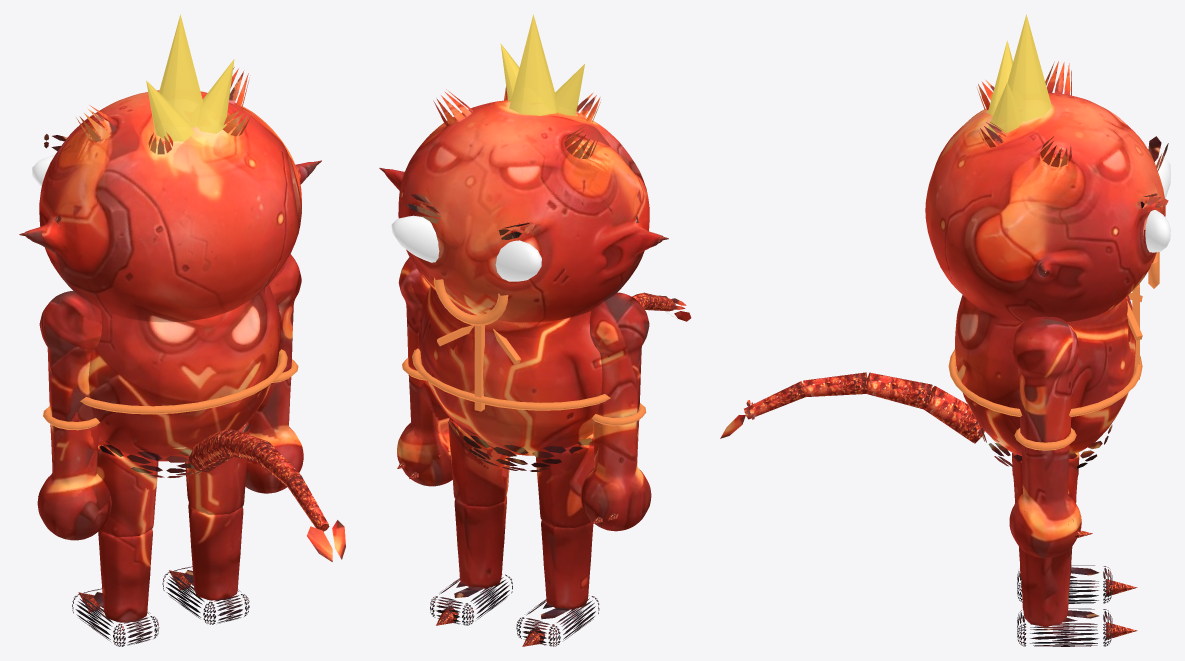
Rendered from firewall_imp.glb.
3 views of the same model, side by side, from view 1: azimuth 30°, elevation 25°; view 2: azimuth 150°, elevation 25°; view 3: azimuth 270°, elevation 25° (orthographic). The views are drawn at different scales.
Visible parts, largest first — view 1: skin, skin.005, skin.003, skin.004, fire, skin.006, skin.008, skin.009, skin.001, skin.007, glow.003, skin.002 (+10 smaller); view 2: skin, skin.005, skin.003, skin.004, skin.001, fire, skin.006, skin.008, skin.009, skin.007, glow.003, eye (+8 smaller); view 3: skin, skin.005, skin.002, skin.001, fire, skin.006, glow.003, dark.001, horn, skin.013, skin.012, skin.011 (+5 smaller).
Boxes of the visible parts, x1=… form: skin: x1=19, y1=90, x2=321, y2=322; skin.005: x1=88, y1=284, x2=280, y2=461; skin.003: x1=37, y1=424, x2=111, y2=540; skin.004: x1=39, y1=291, x2=101, y2=421; fire: x1=146, y1=14, x2=234, y2=141; skin.006: x1=188, y1=503, x2=243, y2=600; skin.008: x1=98, y1=529, x2=152, y2=622; skin.009: x1=97, y1=437, x2=158, y2=536; skin.001: x1=245, y1=377, x2=303, y2=493; skin.007: x1=185, y1=422, x2=249, y2=514; glow.003: x1=80, y1=349, x2=287, y2=414; skin.002: x1=269, y1=254, x2=301, y2=372; skin: x1=379, y1=100, x2=668, y2=322; skin.005: x1=418, y1=286, x2=602, y2=455; skin.003: x1=580, y1=420, x2=651, y2=531; skin.004: x1=589, y1=292, x2=649, y2=417; skin.001: x1=397, y1=375, x2=452, y2=486; fire: x1=500, y1=14, x2=584, y2=115; skin.006: x1=454, y1=496, x2=506, y2=588; skin.008: x1=541, y1=520, x2=593, y2=609; skin.009: x1=536, y1=432, x2=594, y2=527; skin.007: x1=448, y1=418, x2=510, y2=506; glow.003: x1=412, y1=325, x2=610, y2=411; eye: x1=391, y1=215, x2=541, y2=281; skin: x1=925, y1=93, x2=1165, y2=321; skin.005: x1=955, y1=295, x2=1135, y2=454; skin.002: x1=1012, y1=316, x2=1078, y2=442; skin.001: x1=1009, y1=437, x2=1081, y2=558; fire: x1=987, y1=14, x2=1051, y2=133; skin.006: x1=1019, y1=546, x2=1072, y2=626; glow.003: x1=948, y1=284, x2=1142, y2=416; dark.001: x1=1017, y1=608, x2=1112, y2=646; horn: x1=977, y1=61, x2=1071, y2=167; skin.013: x1=924, y1=386, x2=985, y2=443; skin.012: x1=866, y1=372, x2=932, y2=409; skin.011: x1=803, y1=372, x2=867, y2=397.
Size of the model in its own units: 0.5547 by 1.05 by 0.7072.
6 materials, 3 textured.
